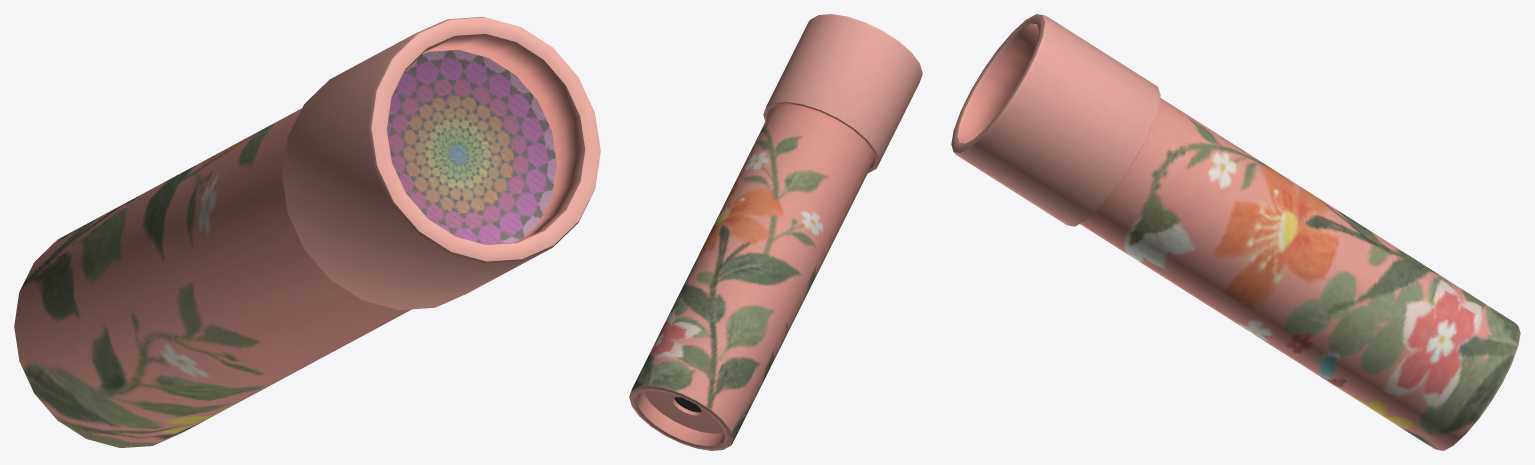
Rendered from ref_gtkaleidoscope.glb.
The picture shows the model from 3 angles, left to right: view 1: azimuth 30°, elevation 25°; view 2: azimuth 150°, elevation 25°; view 3: azimuth 270°, elevation 25°; orthographic projection. The views are drawn at different scales.
Parts seen in each view (by area): view 1: ref_gtkaleidoscope; view 2: ref_gtkaleidoscope; view 3: ref_gtkaleidoscope.
Boxes of the visible parts, bbox=[...] form: ref_gtkaleidoscope: bbox=[14, 17, 600, 447]; ref_gtkaleidoscope: bbox=[629, 14, 922, 450]; ref_gtkaleidoscope: bbox=[951, 14, 1520, 450].
Size of the model in its own units: 0.2915 by 0.8146 by 1.
Materials: 1 (1 with a texture image).
